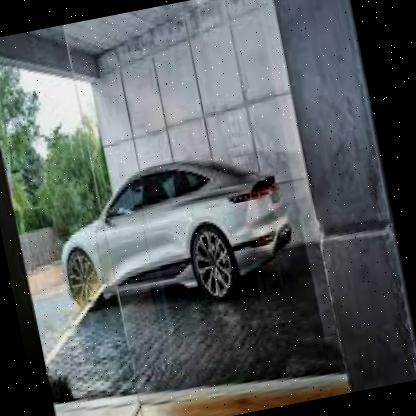car: (38, 135, 304, 332)
